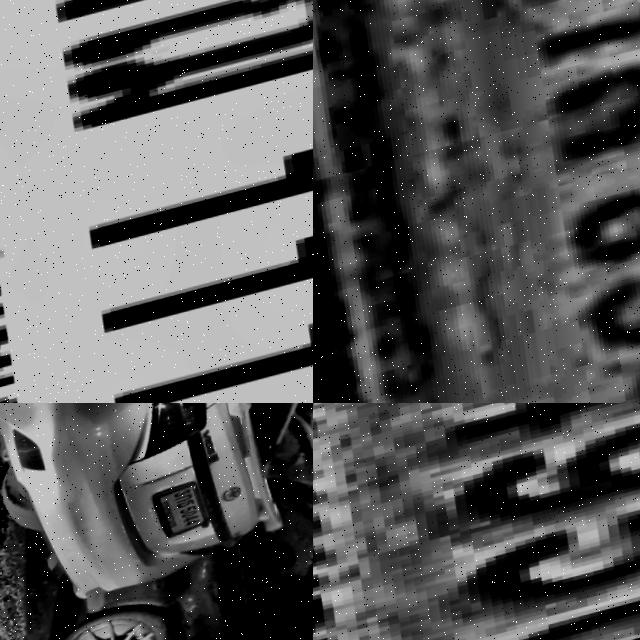license-plate: (313, 0, 640, 403), (0, 0, 313, 403), (313, 403, 640, 640), (154, 483, 215, 548)
